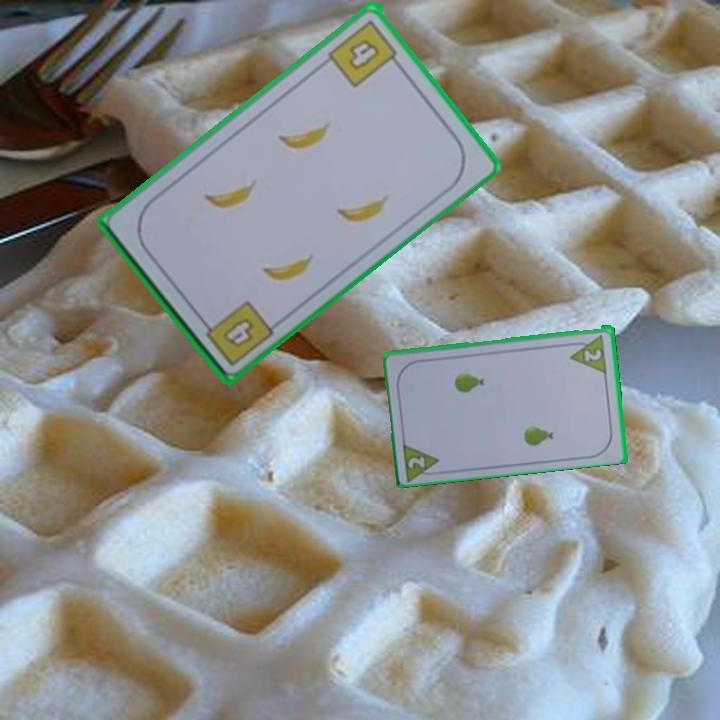2p: (566, 331, 610, 374), (404, 452, 428, 471)
4b: (324, 15, 404, 90), (218, 313, 257, 350)
